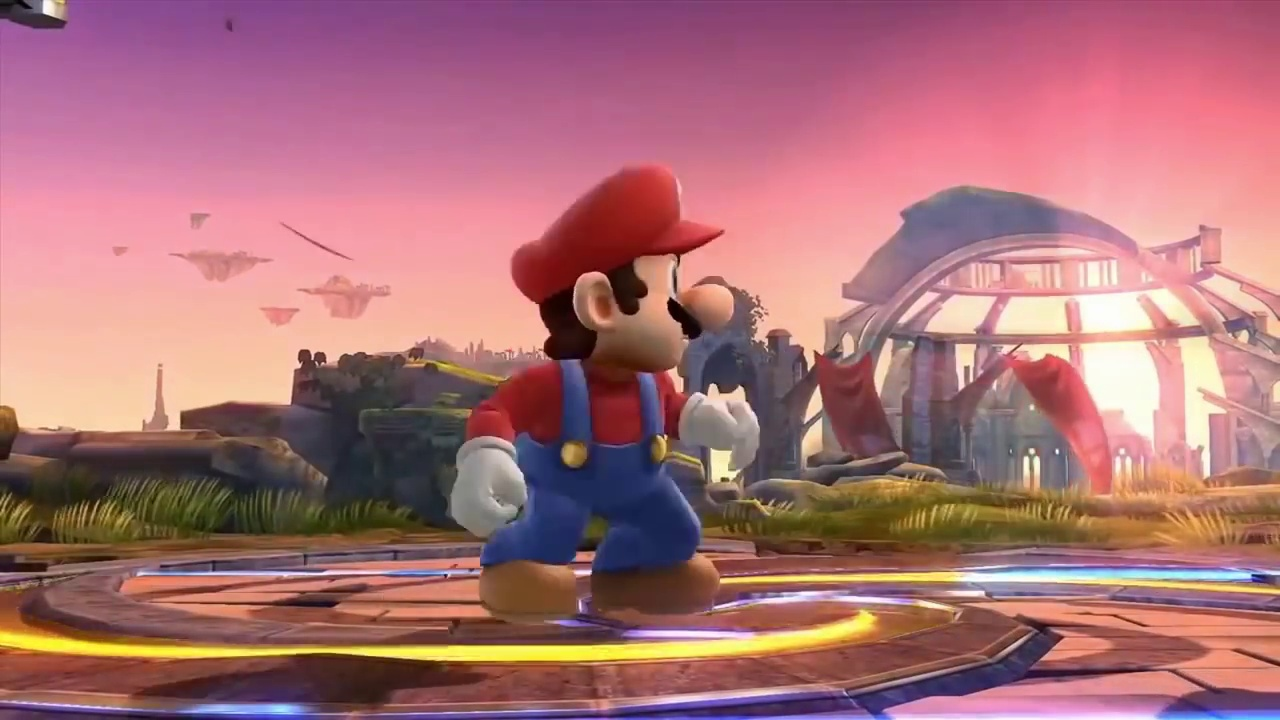Mario: (450, 163, 760, 612)
